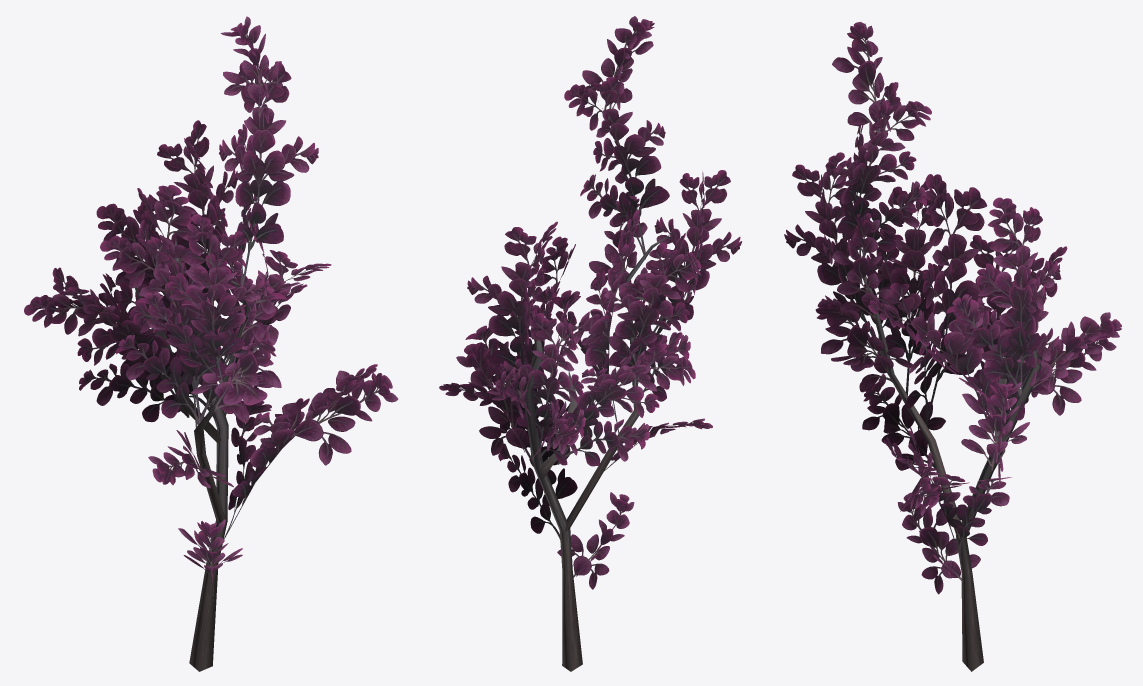
The picture shows the model from 3 angles, left to right: view 1: azimuth 30°, elevation 25°; view 2: azimuth 150°, elevation 25°; view 3: azimuth 270°, elevation 25°; orthographic projection. The views are drawn at different scales.
Bounding box in the file's own units: 5.81 × 11.3 × 5.63.
1 material, 1 textured.
